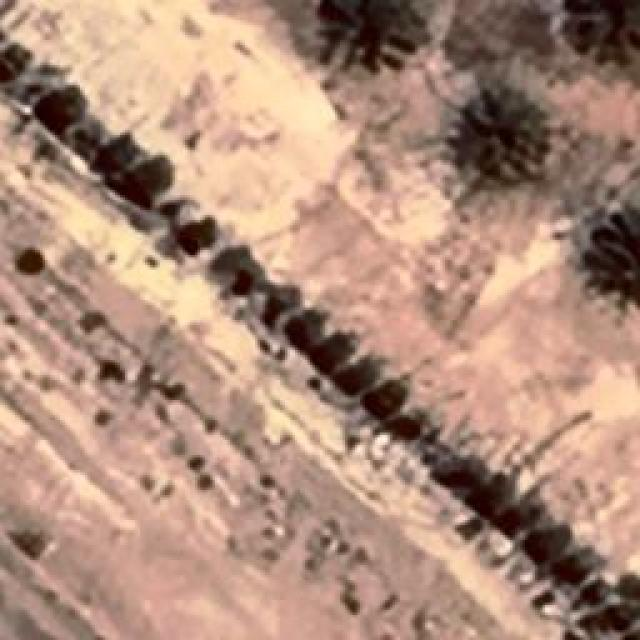PalmTree: (53, 85, 614, 252), (75, 30, 603, 85), (442, 78, 548, 192), (314, 0, 428, 70)
